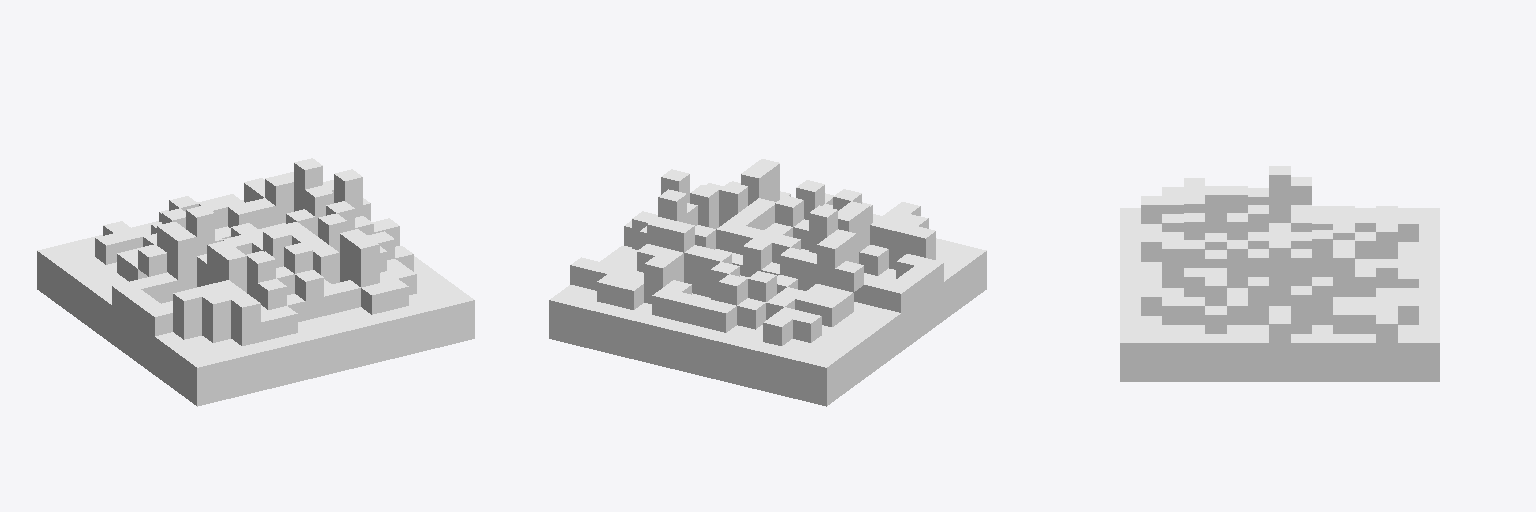
File: seeds.obj
The picture shows the model from 3 angles: view 1: azimuth 30°, elevation 25°; view 2: azimuth 150°, elevation 25°; view 3: azimuth 270°, elevation 25°; orthographic projection.
Parts seen in each view (by area): view 1: object 1; view 2: object 1; view 3: object 1.
Part boxes in pixels (x1,y1,x2,y2): object 1: (37, 158, 474, 406); object 1: (549, 159, 986, 406); object 1: (1120, 166, 1439, 381).
Size of the model in its own units: 1.5 by 0.6 by 1.5.